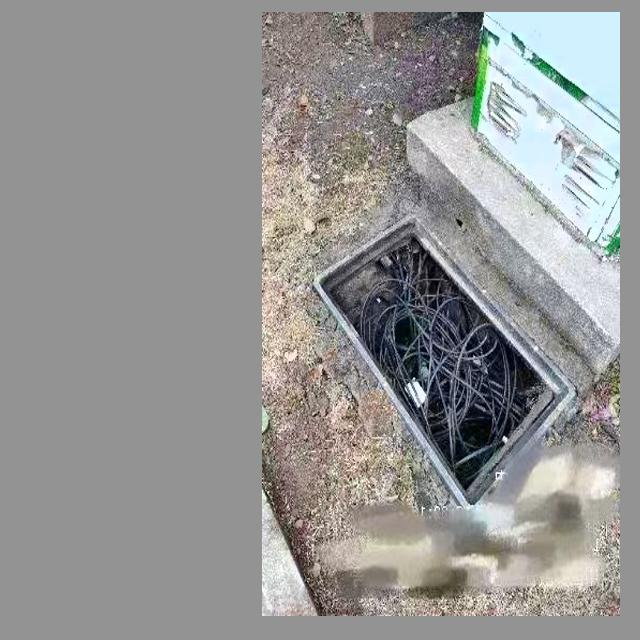lose: (310, 204, 587, 514)
